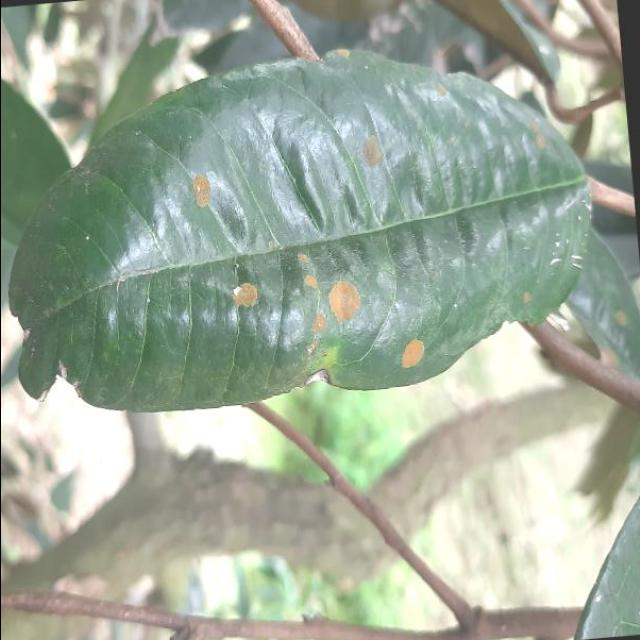Algal Leaf Spot: (0, 24, 616, 418)
